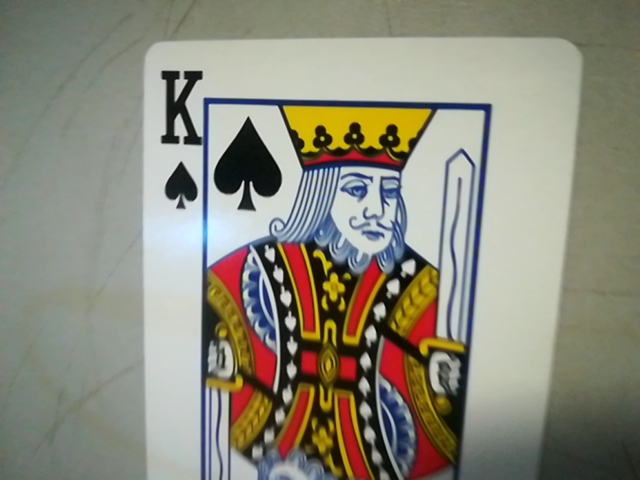ht k: (150, 60, 209, 213)
